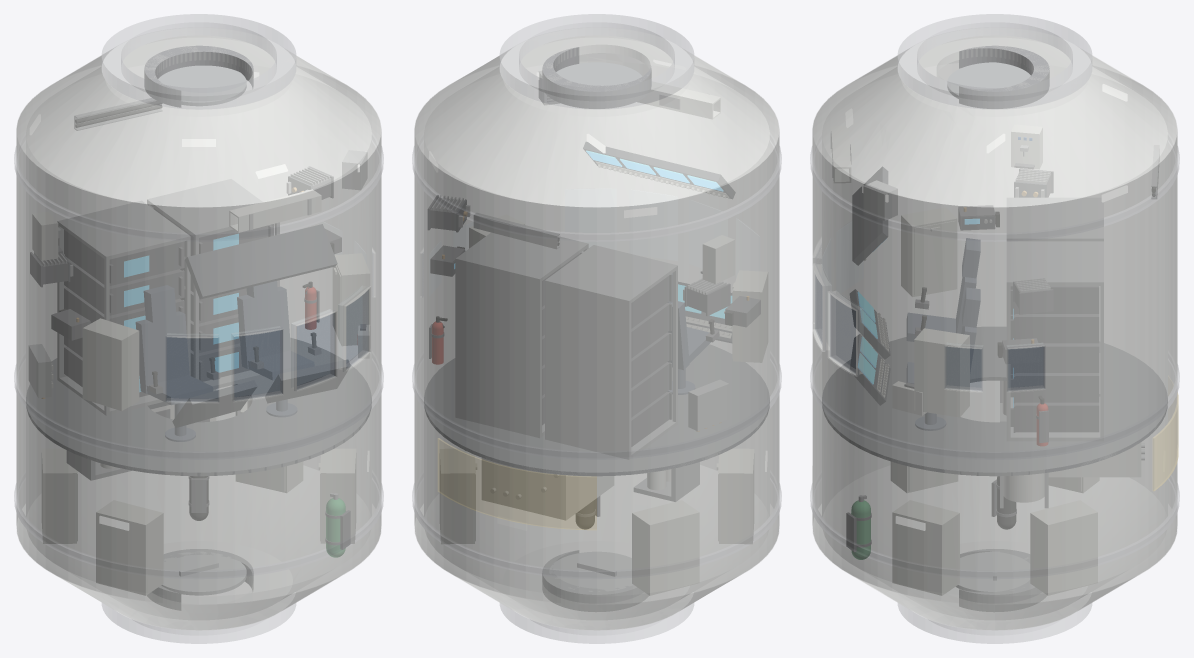
Rendered from cmd08_flight_deck_combined.glb.
3 renders of one model, left to right at view 1: azimuth 30°, elevation 25°; view 2: azimuth 150°, elevation 25°; view 3: azimuth 270°, elevation 25°, orthographic.
Parts seen in each view (by area): view 1: pressure_vessel, ext_pressure_hull, bridge_deck, stowage_lockers, ext_berthing_rings, ext_ring_frames, ext_windows, eq05_1, eq05_1_rack_frame, overhead_panel, seat_1, seat_2 (+19 smaller); view 2: pressure_vessel, ext_pressure_hull, eq05_1_rack_frame, eq05_2_rack_frame, stowage_lockers, bridge_deck, ext_berthing_rings, ext_ring_frames, ext_mli_patch, eq05_1, eq07_1_body, hatch_tunnel_2 (+17 smaller); view 3: pressure_vessel, ext_pressure_hull, stowage_lockers, bridge_deck, ext_berthing_rings, ext_ring_frames, eq05_2, eq05_2_rack_frame, ext_windows, eq05_1_rack_frame, hatch_tunnel_2, hatch_door_1 (+19 smaller).
Part boxes in pixels (x1,y1,x2,y2): pressure_vessel: (17,28,380,629); ext_pressure_hull: (16,27,381,630); bridge_deck: (26,338,371,476); stowage_lockers: (42,253,369,595); ext_berthing_rings: (102,14,295,643); ext_ring_frames: (14,140,383,578); ext_windows: (166,290,368,401); eq05_1: (64,230,184,396); eq05_1_rack_frame: (57,201,190,415); overhead_panel: (185,224,337,298); seat_1: (136,285,212,441); seat_2: (237,281,314,416); pressure_vessel: (415,28,778,629); ext_pressure_hull: (414,27,779,630); eq05_1_rack_frame: (545,245,677,459); eq05_2_rack_frame: (455,233,588,437); stowage_lockers: (440,214,767,595); bridge_deck: (424,344,769,476); ext_berthing_rings: (500,14,693,643); ext_ring_frames: (412,140,781,578); ext_mli_patch: (438,438,596,529); eq05_1: (631,274,671,446); eq07_1_body: (482,458,613,520); hatch_tunnel_2: (542,47,651,108); pressure_vessel: (813,28,1176,629); ext_pressure_hull: (812,27,1177,630); stowage_lockers: (891,207,1099,595); bridge_deck: (822,327,1167,475); ext_berthing_rings: (898,14,1091,643); ext_ring_frames: (810,140,1179,578); eq05_2: (1011,286,1098,432); eq05_2_rack_frame: (1007,241,1103,440); ext_windows: (815,275,1044,390); eq05_1_rack_frame: (1007,198,1103,395); hatch_tunnel_2: (959,45,1049,108); hatch_door_1: (956,552,1029,591).
Bounding box in the file's own units: 3.79 × 6.2 × 3.79.
